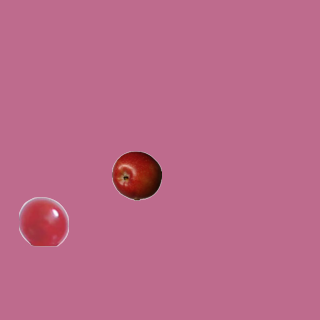Apple Braeburn: (111, 150, 161, 200)
Redcurrant: (18, 196, 68, 246)
